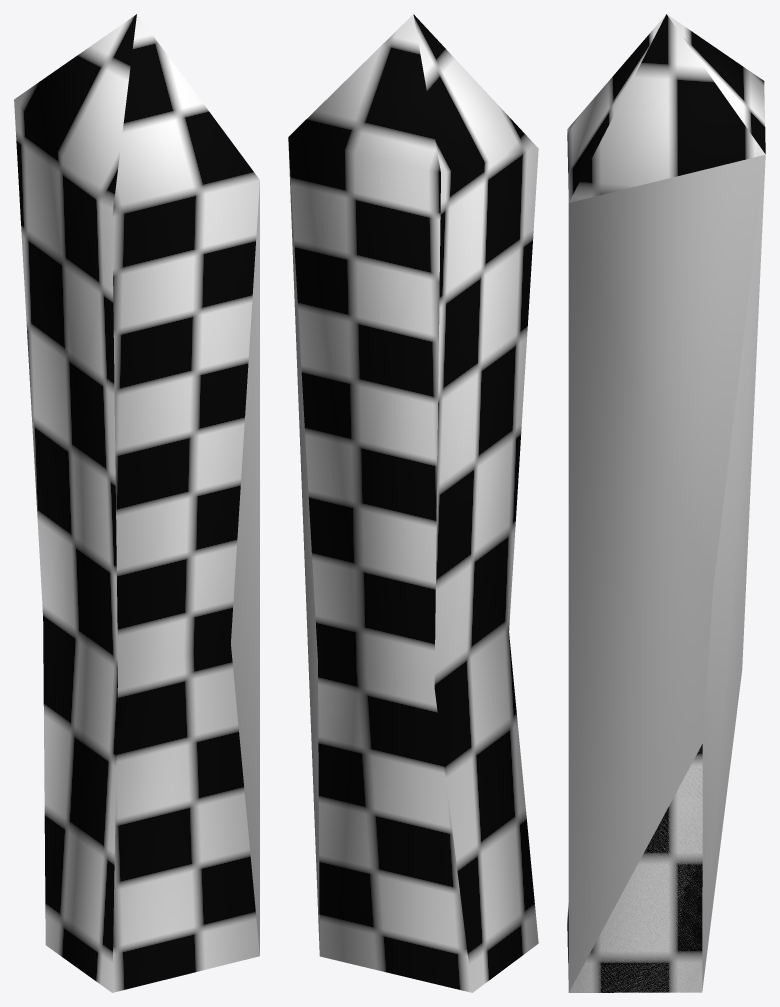
File: stst5.dae
3 renders of one model, left to right at view 1: azimuth 30°, elevation 25°; view 2: azimuth 150°, elevation 25°; view 3: azimuth 270°, elevation 25°, orthographic. The views are drawn at different scales.
Parts seen in each view (by area): view 1: pointer00; view 2: pointer00; view 3: pointer00.
Part boxes in pixels (x1=…): pointer00: x1=14, y1=14, x2=259, y2=992; pointer00: x1=288, y1=14, x2=538, y2=992; pointer00: x1=567, y1=14, x2=765, y2=992.
Size of the model in its own units: 0.3269 by 0.3684 by 1.93.
Materials: 2 (1 with a texture image).
